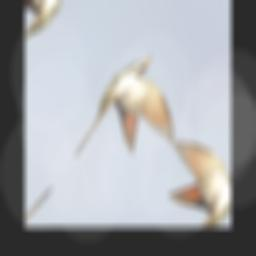Cuckoo: (65, 43, 198, 212)
